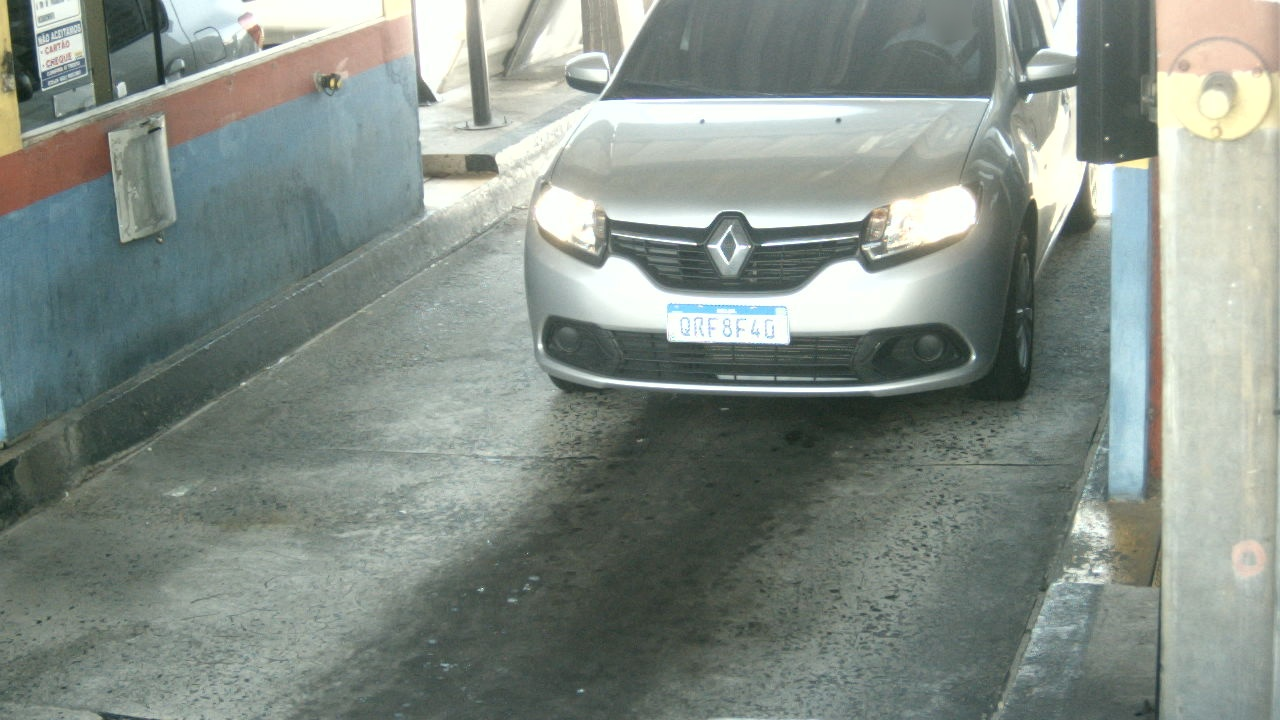placa: (666, 302, 791, 346)
